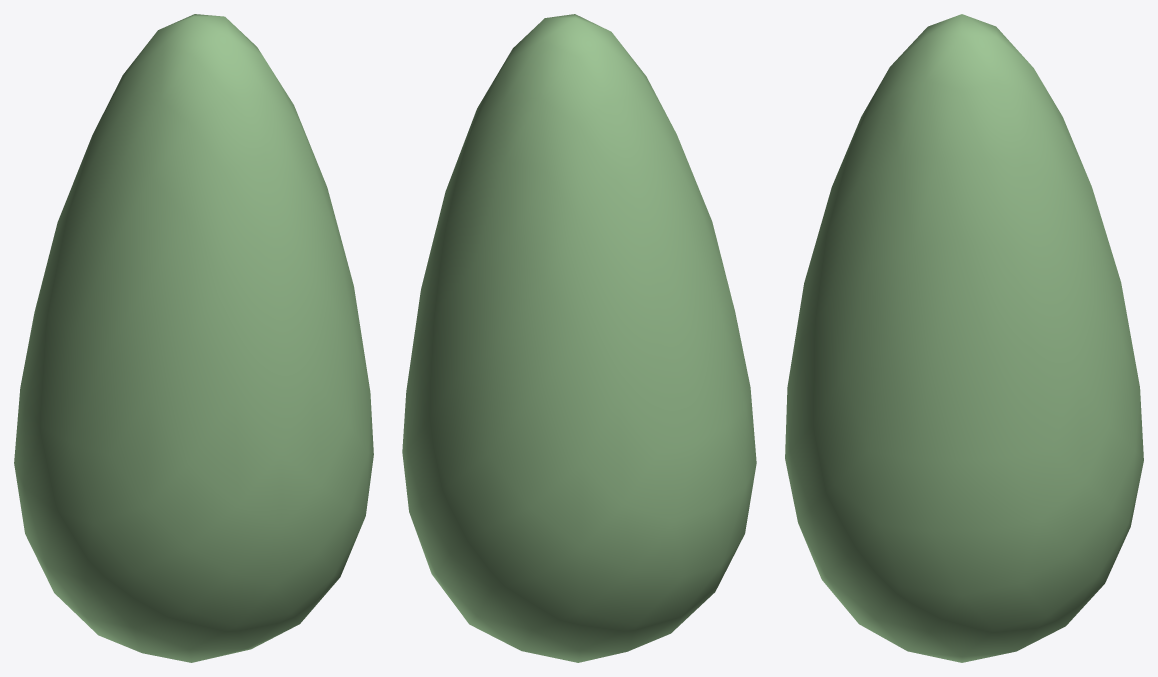
The model's file is tree-conifer-b-crown.glb.
3 views of the same model, side by side, from view 1: azimuth 30°, elevation 25°; view 2: azimuth 150°, elevation 25°; view 3: azimuth 270°, elevation 25° (orthographic).
Parts seen in each view (by area): view 1: tree-conifer-b-crown; view 2: tree-conifer-b-crown; view 3: tree-conifer-b-crown.
Boxes of the visible parts, box(x1,y1,x2,y2) form: tree-conifer-b-crown: box(14, 14, 373, 662); tree-conifer-b-crown: box(402, 14, 756, 662); tree-conifer-b-crown: box(785, 14, 1143, 662).
Bounding box in the file's own units: 0.2944 × 0.5779 × 0.2971.
